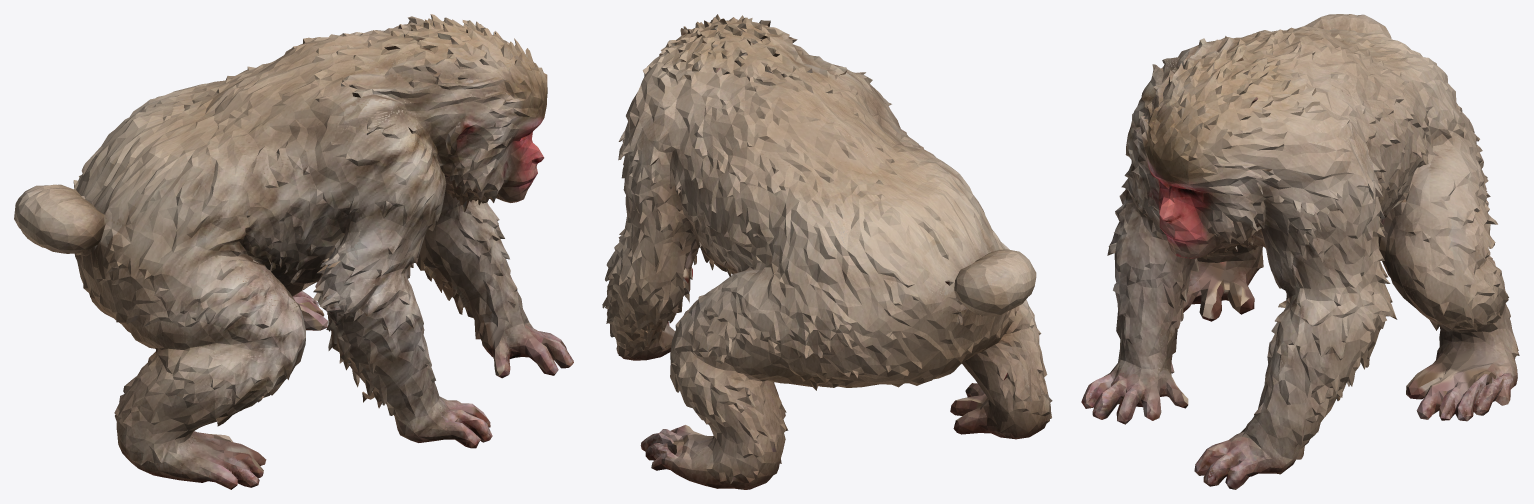
The model's file is foe_monkeys.glb.
3 renders of one model, left to right at view 1: azimuth 30°, elevation 25°; view 2: azimuth 150°, elevation 25°; view 3: azimuth 270°, elevation 25°, orthographic. The views are drawn at different scales.
Parts seen in each view (by area): view 1: temp_mesh.ply; view 2: temp_mesh.ply; view 3: temp_mesh.ply.
Part boxes in pixels (x1,y1,x2,y2): temp_mesh.ply: (14,14,573,489); temp_mesh.ply: (602,14,1052,489); temp_mesh.ply: (1081,14,1519,489).
Bounding box in the file's own units: 1.97 × 1.41 × 1.49.
1 material, 1 textured.
